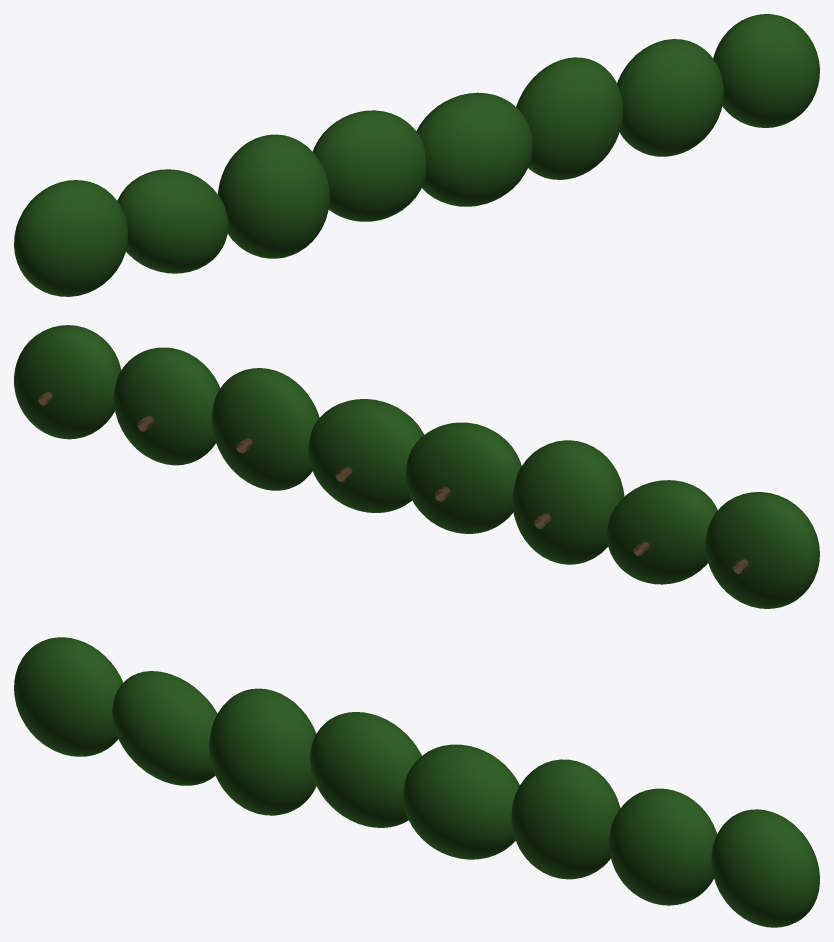
File: citrus_plain8_e.obj
3 views of the same model, one above another, from view 1: azimuth 30°, elevation 25°; view 2: azimuth 150°, elevation 25°; view 3: azimuth 330°, elevation 25° (orthographic).
Visible parts, largest first — view 1: canopy; view 2: canopy, trunk; view 3: canopy.
Part boxes in pixels (left/top/right/bottom): canopy: left=14, top=14, right=819, bottom=296; canopy: left=14, top=325, right=819, bottom=608; trunk: left=38, top=391, right=748, bottom=573; canopy: left=14, top=637, right=819, bottom=927.
Bounding box in the file's own units: 24.13 × 3.45 × 2.84.
